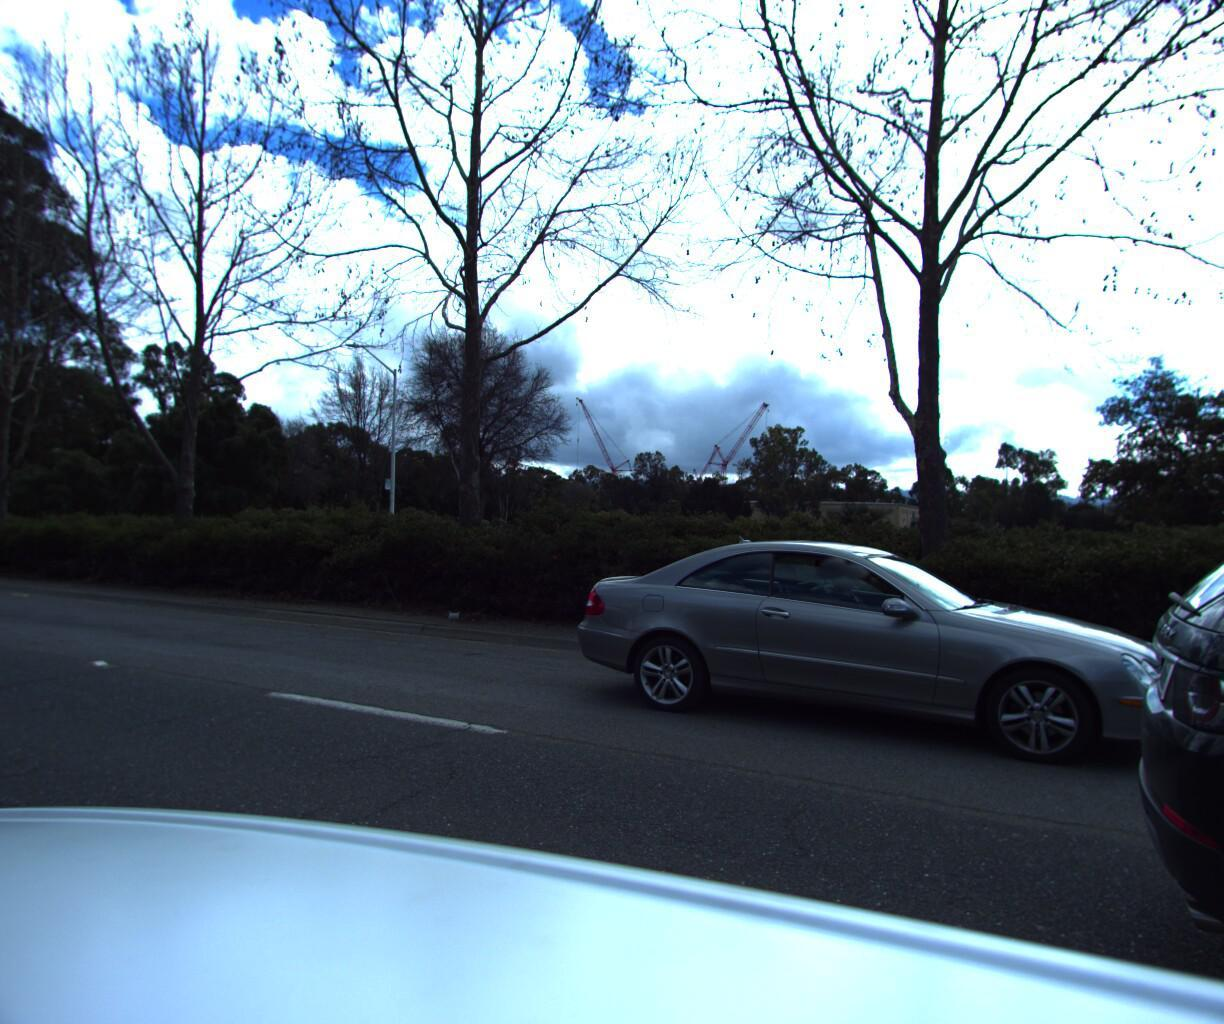car: (1067, 0, 1224, 1024), (543, 529, 1129, 780)
